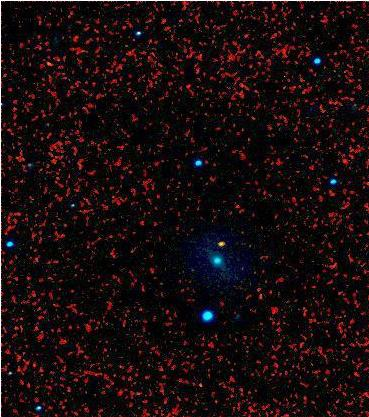star: (207, 229, 237, 259)
